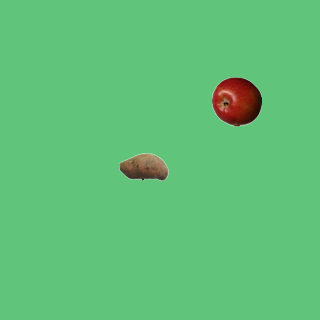Apple Braeburn: (211, 76, 261, 126)
Potato Sweet: (118, 141, 168, 191)
